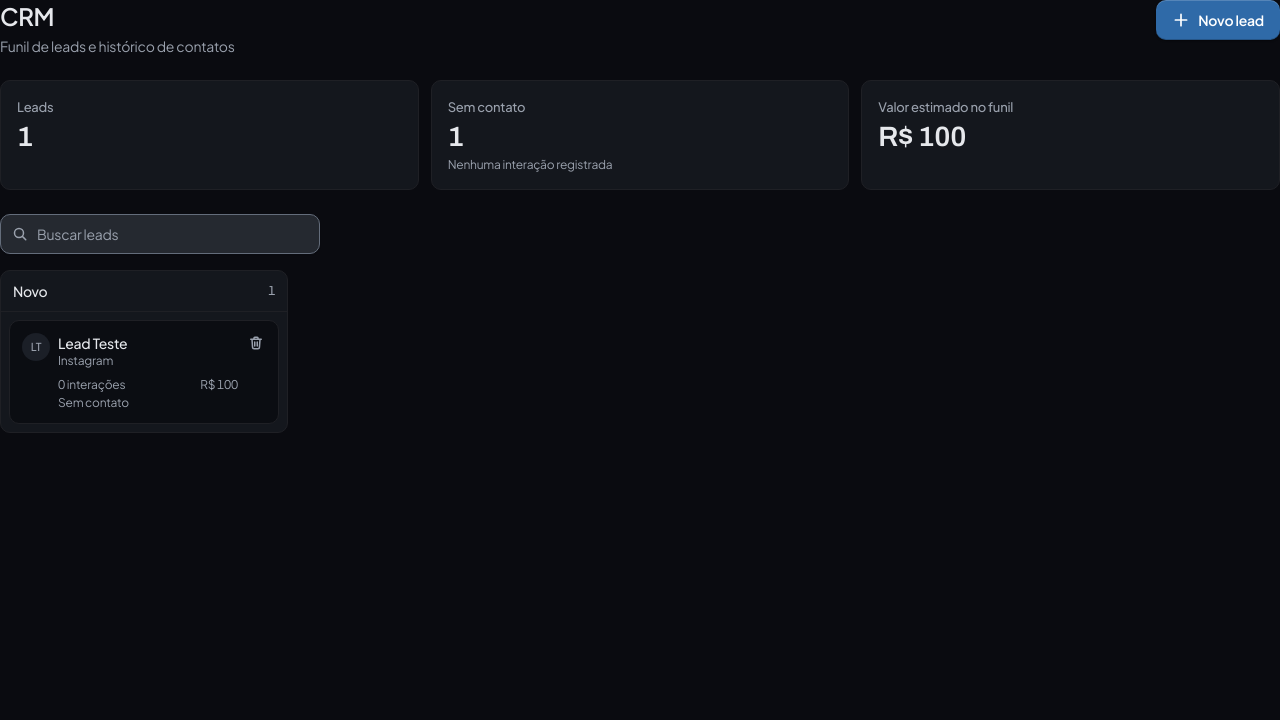
it: CRM: valor inválido › não grava e mostra erro no campo
Click the text "Lead Teste" at point(93, 343), box [58,334,127,352]
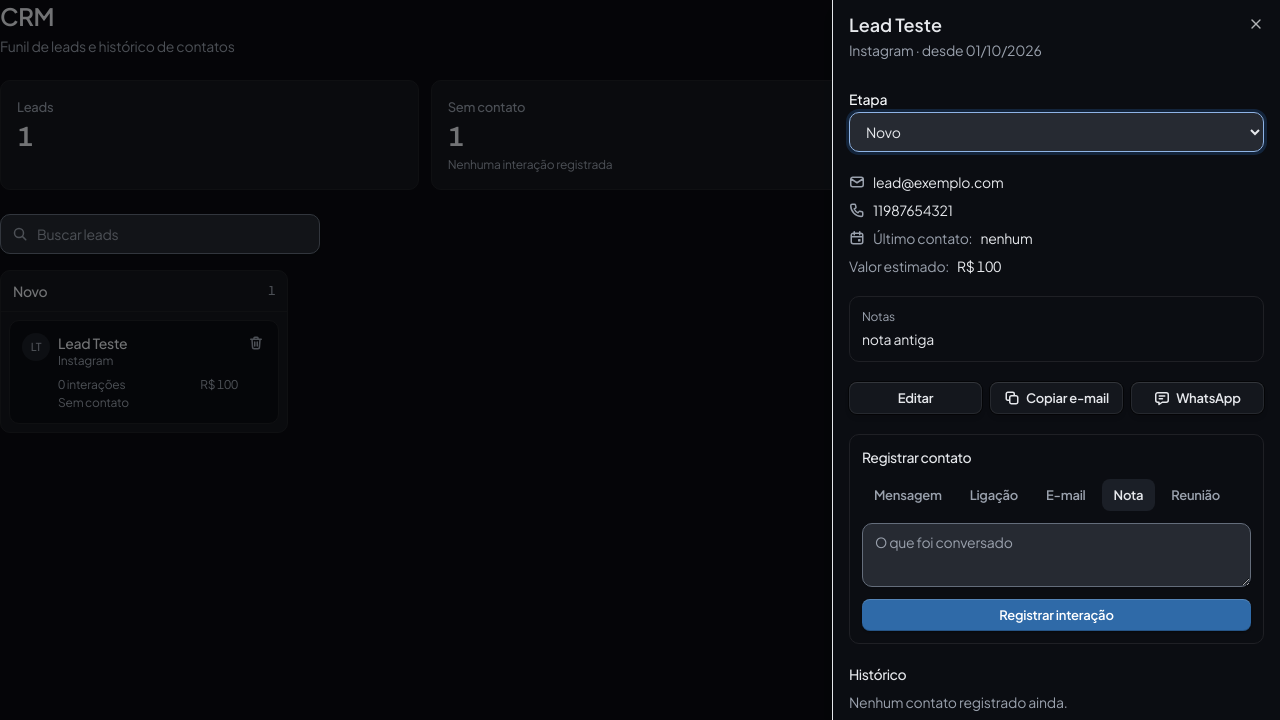
Click the button "Editar" at point(916, 398), box [849,382,982,414]
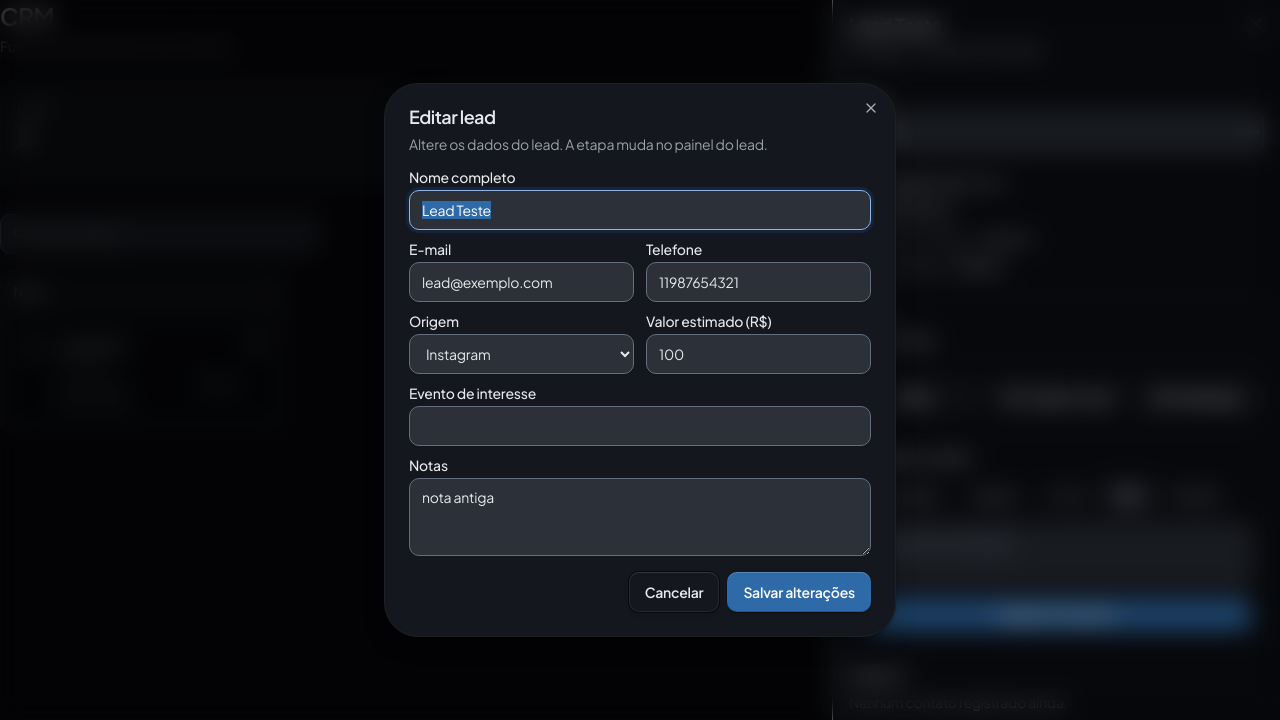
Replace the text in the field labelled "Valor estimado (R$)" with "abc" at point(758, 354), box [646,334,871,374]
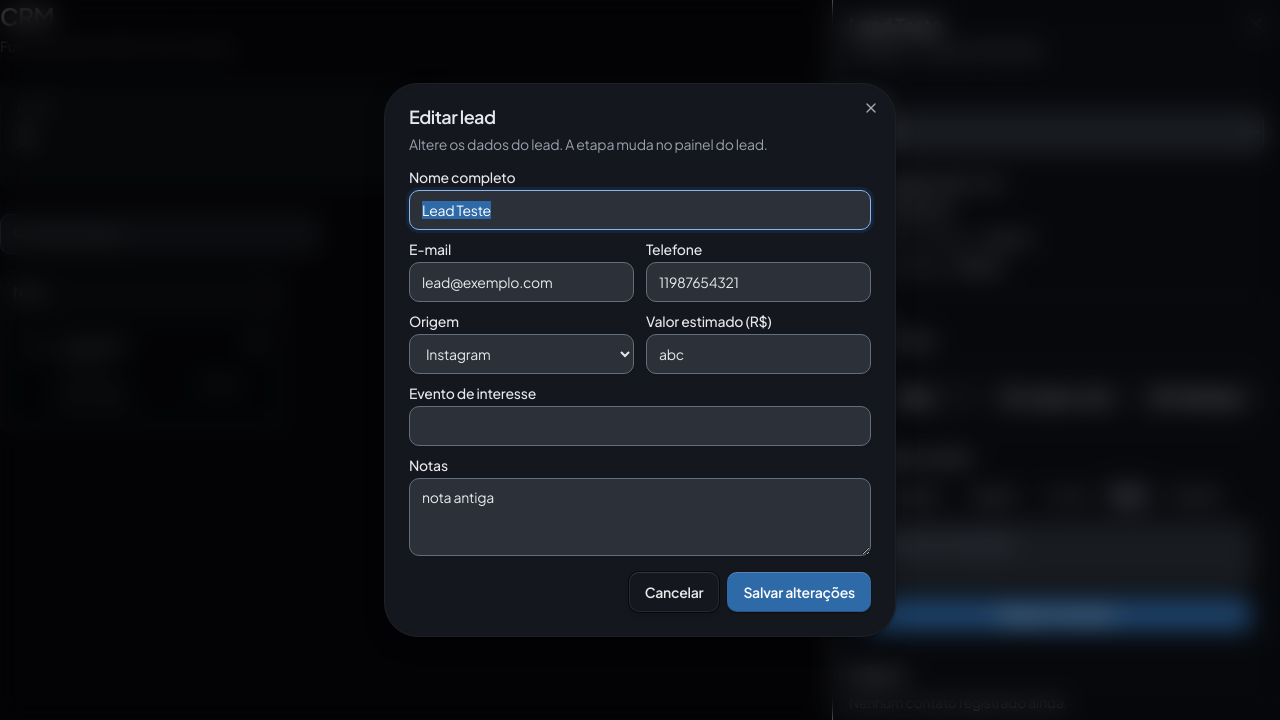
Click the button "Salvar alterações" at point(799, 592), box [727,572,871,612]
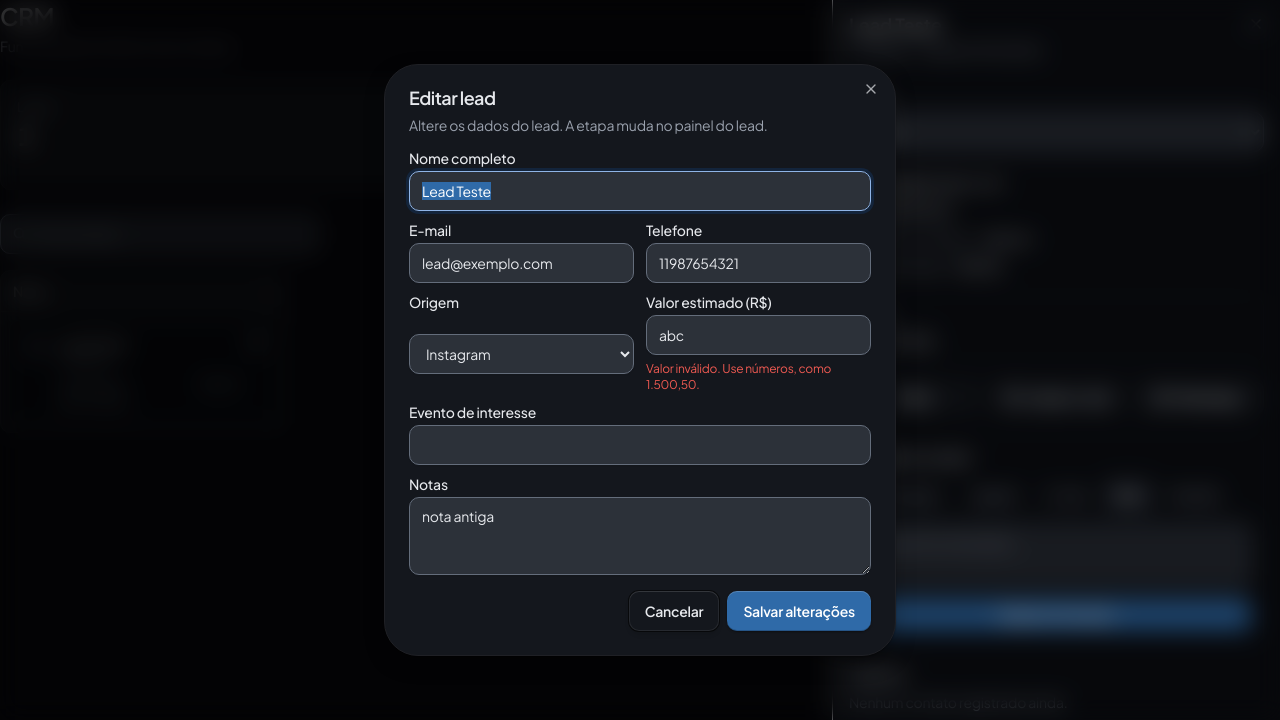
Expected: the message shows "Valor inválido", [646,361,831,392]
